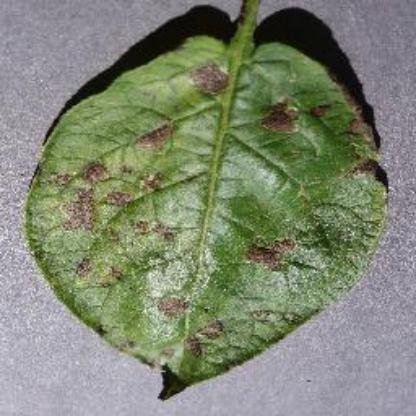Early-Blight: (20, 0, 396, 398)
